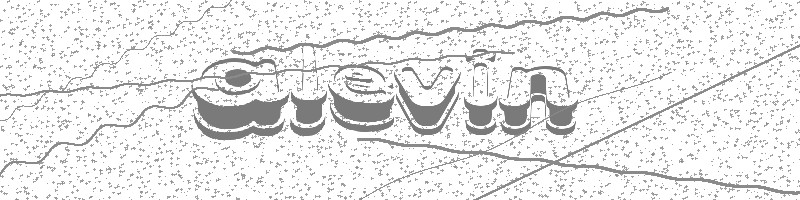a: (188, 52, 289, 142)
e: (327, 60, 396, 131)
i: (461, 43, 497, 136)
l: (291, 42, 327, 141)
n: (498, 63, 579, 138)
v: (394, 60, 461, 137)
